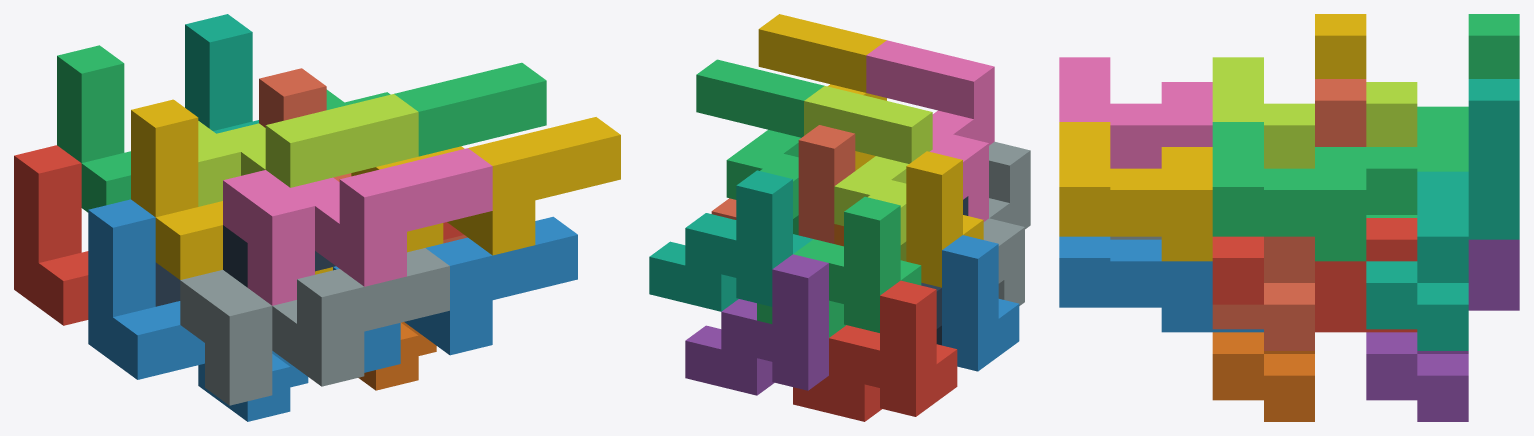
The model's file is tiling.obj.
3 renders of one model, left to right at view 1: azimuth 30°, elevation 25°; view 2: azimuth 150°, elevation 25°; view 3: azimuth 270°, elevation 25°, orthographic. The views are drawn at different scales.
Visible parts, largest first — view 1: copy_2_domain_4, copy_2_domain_2, copy_1_domain_2, copy_2_domain_3, copy_2_domain_8, copy_2_domain_6, copy_1_domain_4, copy_1_domain_1, copy_1_domain_3, copy_2_domain_7, copy_1_domain_7, copy_1_domain_8 (+2 smaller); view 2: copy_1_domain_1, copy_1_domain_5, copy_1_domain_7, copy_2_domain_4, copy_2_domain_3, copy_2_domain_7, copy_1_domain_3, copy_1_domain_2, copy_2_domain_8, copy_1_domain_4, copy_2_domain_2, copy_1_domain_8 (+1 smaller); view 3: copy_1_domain_7, copy_2_domain_7, copy_2_domain_8, copy_1_domain_5, copy_2_domain_6, copy_1_domain_8, copy_2_domain_4, copy_2_domain_3, copy_2_domain_5, copy_1_domain_6, copy_1_domain_3, copy_1_domain_4.
Boxes of the visible parts, x1,y1,x2,y2 form: copy_2_domain_4: [223, 148, 492, 305]; copy_2_domain_2: [180, 248, 449, 405]; copy_1_domain_2: [88, 199, 308, 421]; copy_2_domain_3: [198, 94, 418, 206]; copy_2_domain_8: [351, 117, 620, 255]; copy_2_domain_6: [333, 216, 577, 372]; copy_1_domain_4: [131, 99, 332, 279]; copy_1_domain_1: [14, 145, 88, 325]; copy_1_domain_3: [57, 45, 130, 212]; copy_2_domain_7: [326, 62, 546, 156]; copy_1_domain_7: [185, 14, 258, 133]; copy_1_domain_8: [259, 68, 467, 243]; copy_1_domain_1: [793, 280, 957, 421]; copy_1_domain_5: [685, 254, 828, 395]; copy_1_domain_7: [649, 170, 813, 311]; copy_2_domain_4: [866, 40, 994, 221]; copy_2_domain_3: [804, 86, 932, 261]; copy_2_domain_7: [696, 59, 824, 235]; copy_1_domain_3: [757, 196, 921, 337]; copy_1_domain_2: [942, 235, 1019, 371]; copy_2_domain_8: [758, 14, 886, 170]; copy_1_domain_4: [906, 151, 983, 287]; copy_2_domain_2: [983, 141, 1030, 305]; copy_1_domain_8: [711, 125, 855, 243]; copy_1_domain_7: [1366, 79, 1519, 350]; copy_2_domain_7: [1212, 122, 1417, 261]; copy_2_domain_8: [1059, 122, 1212, 261]; copy_1_domain_5: [1366, 239, 1519, 421]; copy_2_domain_6: [1059, 236, 1212, 332]; copy_1_domain_8: [1212, 79, 1366, 350]; copy_2_domain_4: [1059, 57, 1212, 168]; copy_2_domain_3: [1212, 57, 1417, 168]; copy_2_domain_5: [1212, 218, 1417, 332]; copy_1_domain_6: [1212, 332, 1314, 421]; copy_1_domain_3: [1366, 14, 1519, 217]; copy_1_domain_4: [1315, 14, 1366, 78].
Bounding box in the file's own units: 9 × 6 × 9.
